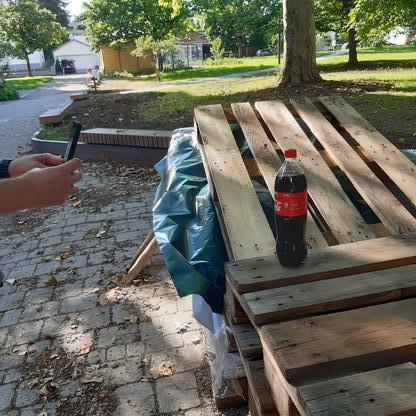coca-cola: (269, 147, 309, 269)
